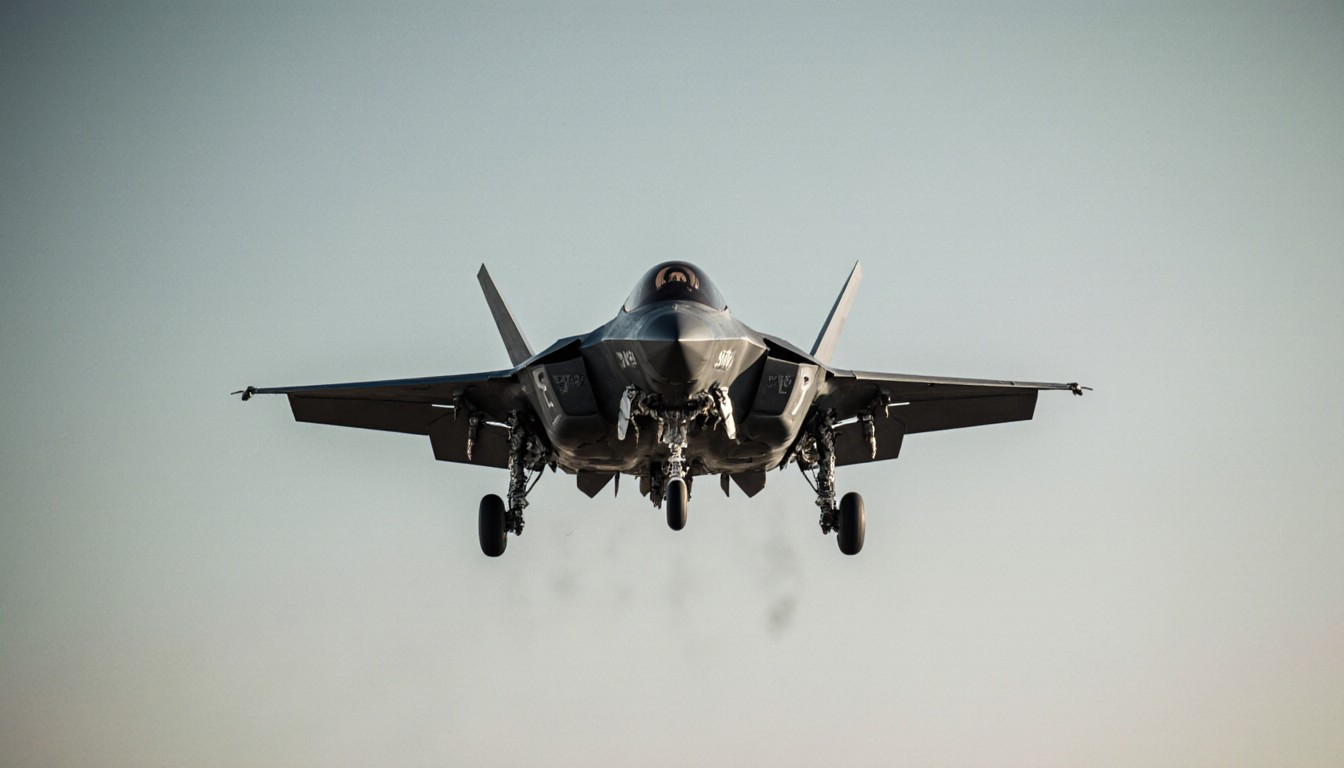F35: (217, 248, 1105, 567)
